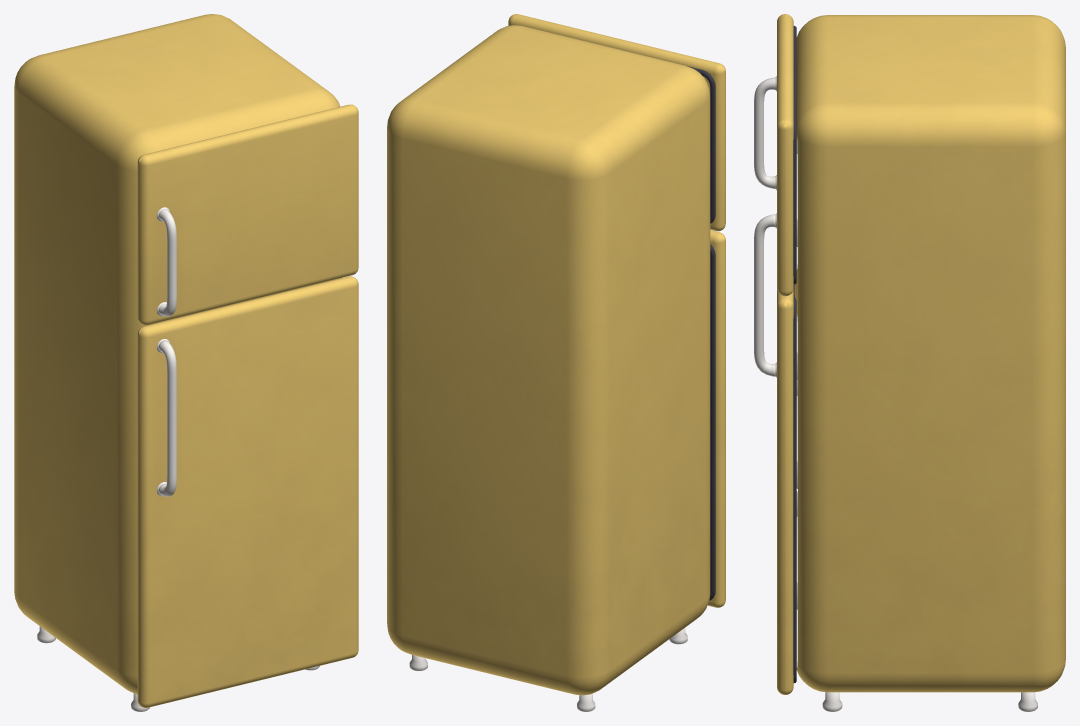
Rendered from refrigerator.glb.
3 views of the same model, side by side, from view 1: azimuth 30°, elevation 25°; view 2: azimuth 150°, elevation 25°; view 3: azimuth 270°, elevation 25° (orthographic). The views are drawn at different scales.
Parts seen in each view (by area): view 1: refrigerator_body, refrigerator_door_main, refrigerator_door_freezer; view 2: refrigerator_body, refrigerator_door_main, refrigerator_door_freezer; view 3: refrigerator_body, refrigerator_door_main, refrigerator_door_freezer.
Boxes of the visible parts, x1,y1,x2,y2 form: refrigerator_body: (14, 14, 342, 711); refrigerator_door_main: (137, 276, 358, 707); refrigerator_door_freezer: (137, 104, 358, 325); refrigerator_body: (387, 25, 710, 711); refrigerator_door_main: (707, 230, 725, 607); refrigerator_door_freezer: (508, 14, 725, 231); refrigerator_body: (794, 15, 1065, 711); refrigerator_door_main: (754, 213, 797, 694); refrigerator_door_freezer: (754, 14, 797, 296).
Bounding box in the file's own units: 0.6 × 1.5 × 0.7013.
3 materials, 3 textured.
